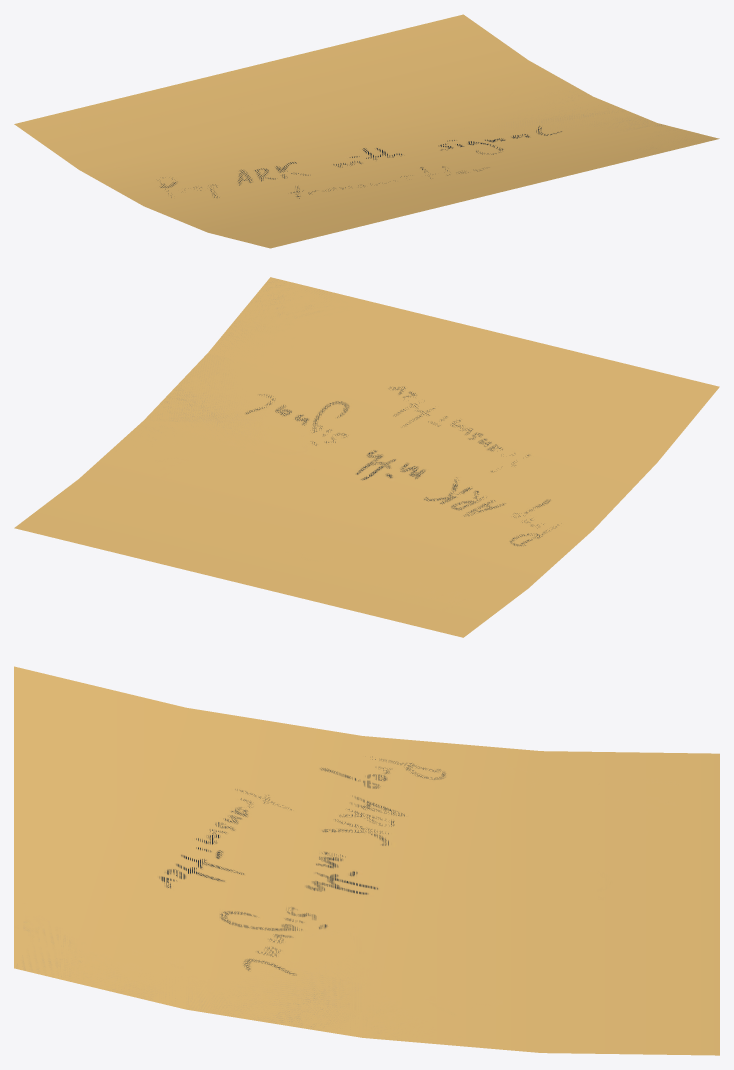
Rendered from note_postit_ark_mission_02.dae.
3 renders of one model, top to bottom at view 1: azimuth 30°, elevation 25°; view 2: azimuth 150°, elevation 25°; view 3: azimuth 270°, elevation 25°, orthographic. The views are drawn at different scales.
Visible parts, largest first — view 1: 02; view 2: 02; view 3: 02.
Boxes of the visible parts, bbox=[...] form: 02: bbox=[14, 14, 719, 248]; 02: bbox=[14, 277, 719, 637]; 02: bbox=[14, 666, 719, 1055].
Size of the model in its own units: 0.25 by 0.0337 by 0.247.
